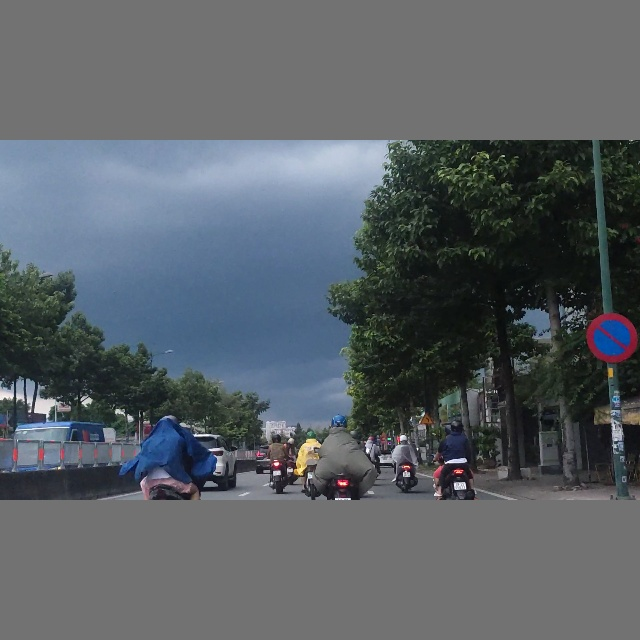P.131a: (585, 312, 638, 363)
W.201a: (419, 413, 434, 425)
